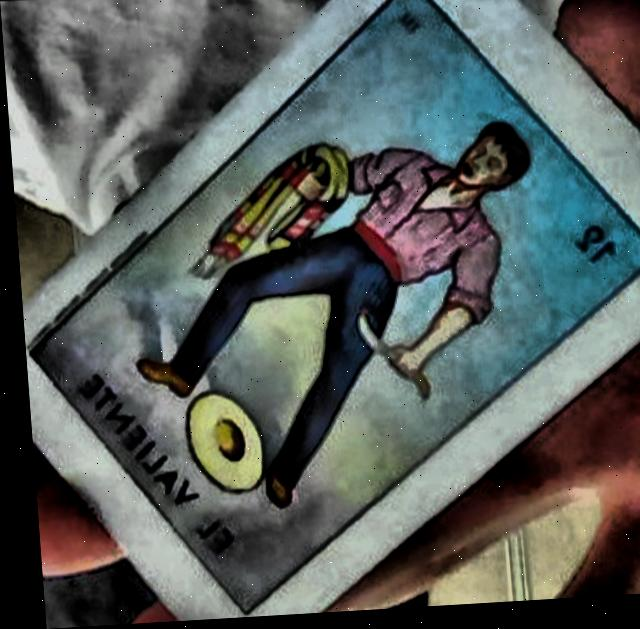El Valiente: (24, 0, 640, 612)
